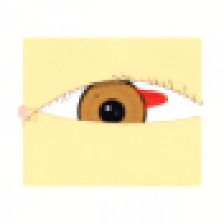hemorrhage_spot: (111, 73, 177, 125)
